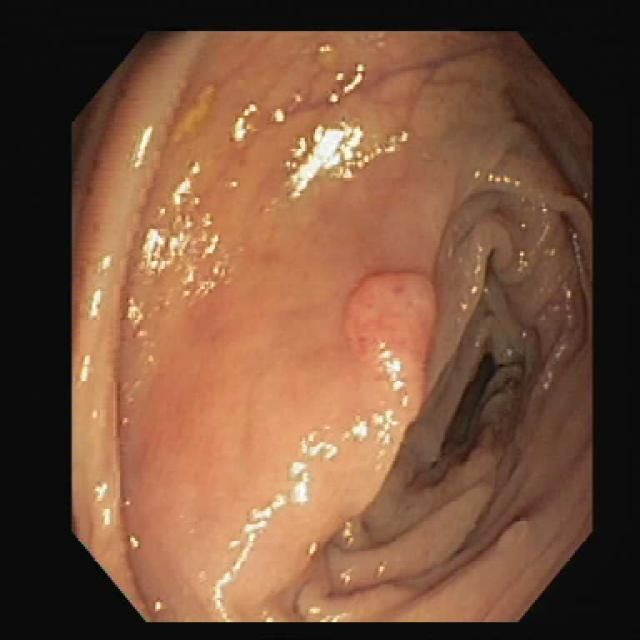tumor: (343, 271, 437, 416)
